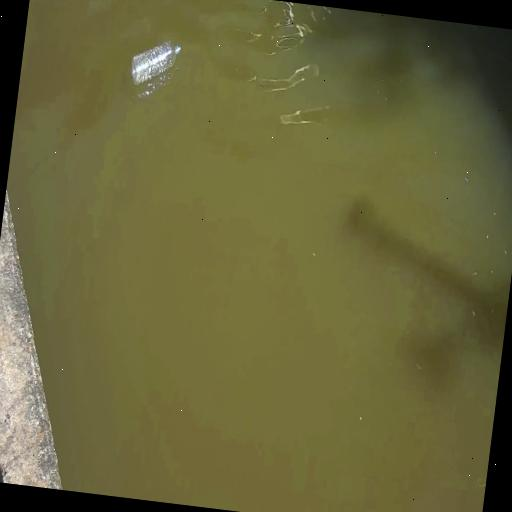plastic: (128, 36, 182, 92)
